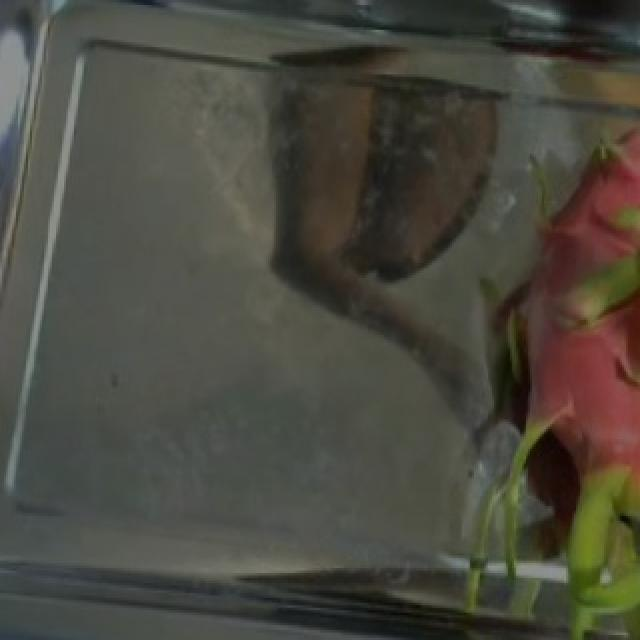fruit: (412, 225, 640, 638)
